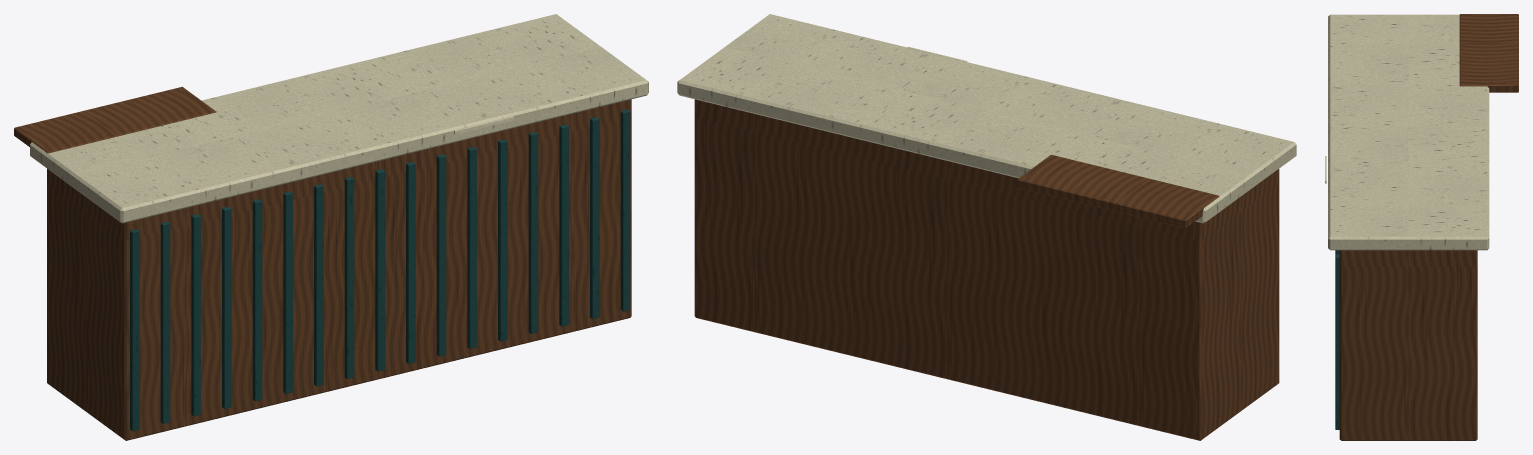
File: reception_counter.glb
The picture shows the model from 3 angles, left to right: view 1: azimuth 30°, elevation 25°; view 2: azimuth 150°, elevation 25°; view 3: azimuth 270°, elevation 25°; orthographic projection. The views are drawn at different scales.
Parts seen in each view (by area): view 1: reception_counter; view 2: reception_counter; view 3: reception_counter.
Boxes of the visible parts, x1=… form: reception_counter: x1=14, y1=14, x2=648, y2=440; reception_counter: x1=677, y1=14, x2=1296, y2=440; reception_counter: x1=1325, y1=14, x2=1518, y2=440.
Size of the model in its own units: 2.5 by 1.09 by 0.914.
Materials: 4 (4 with a texture image).
